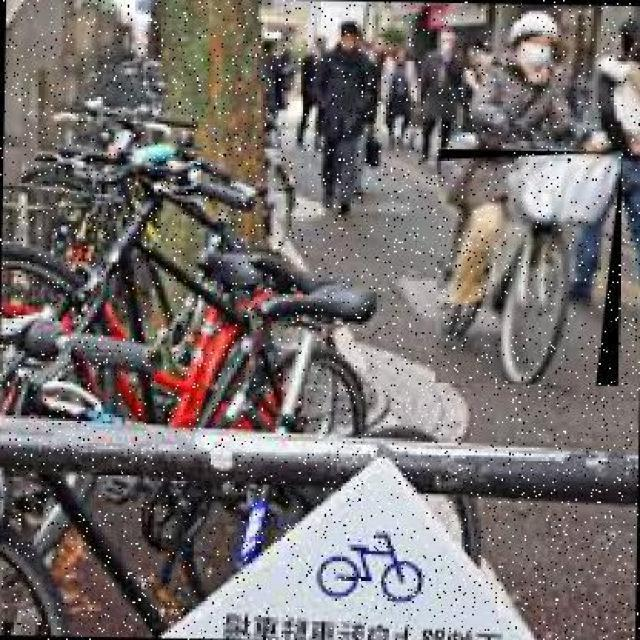bicycle: (433, 149, 622, 388)
